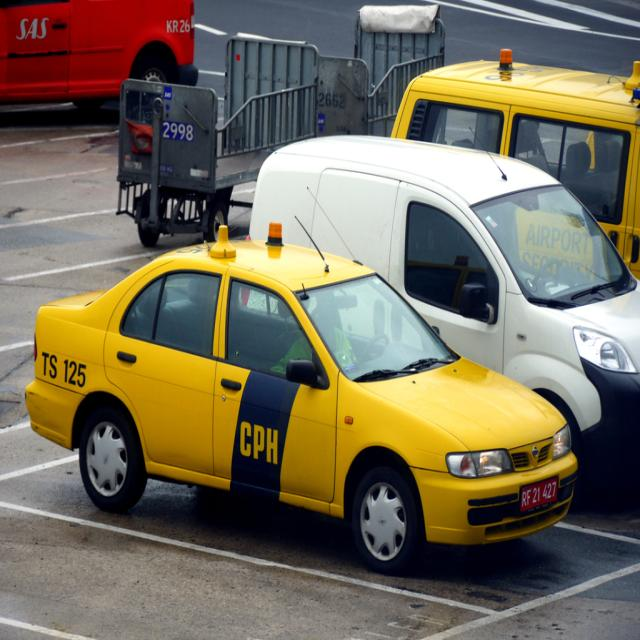car: (27, 209, 575, 579)
